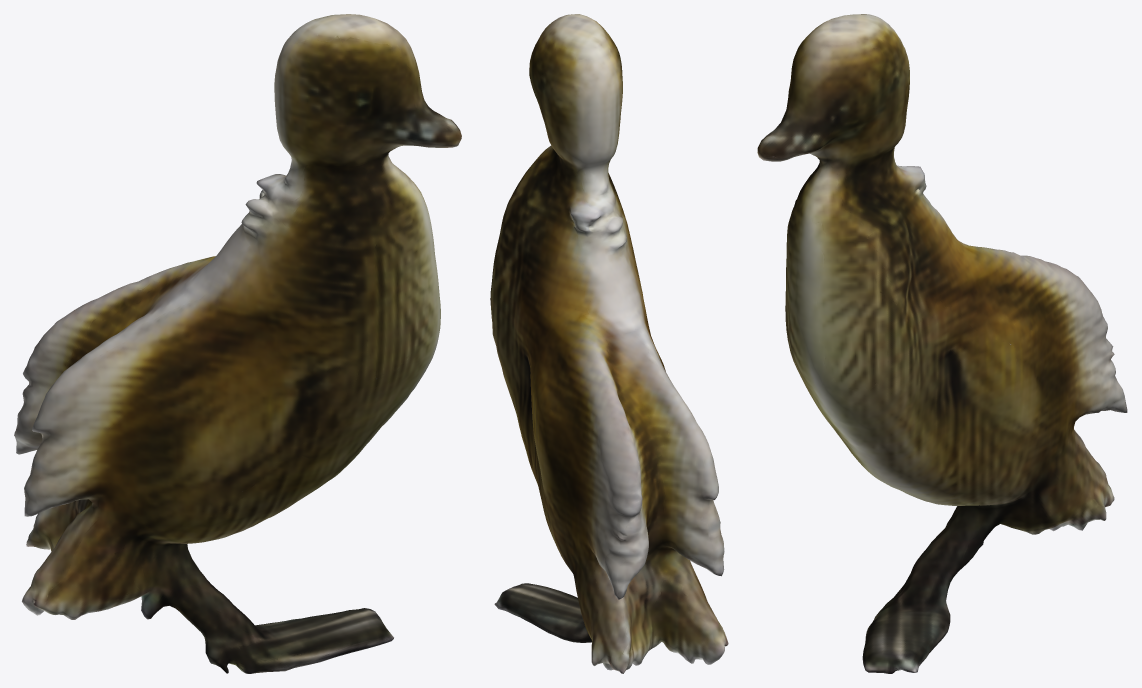
The model's file is bebe.glb.
3 views of the same model, side by side, from view 1: azimuth 30°, elevation 25°; view 2: azimuth 150°, elevation 25°; view 3: azimuth 270°, elevation 25° (orthographic). The views are drawn at different scales.
Parts seen in each view (by area): view 1: mesh; view 2: mesh; view 3: mesh.
Part boxes in pixels (bbox=[...]): mesh: bbox=[14, 14, 461, 673]; mesh: bbox=[490, 14, 728, 673]; mesh: bbox=[757, 14, 1127, 673].
Size of the model in its own units: 0.9572 by 1.82 by 0.9618.
Materials: 1 (1 with a texture image).
